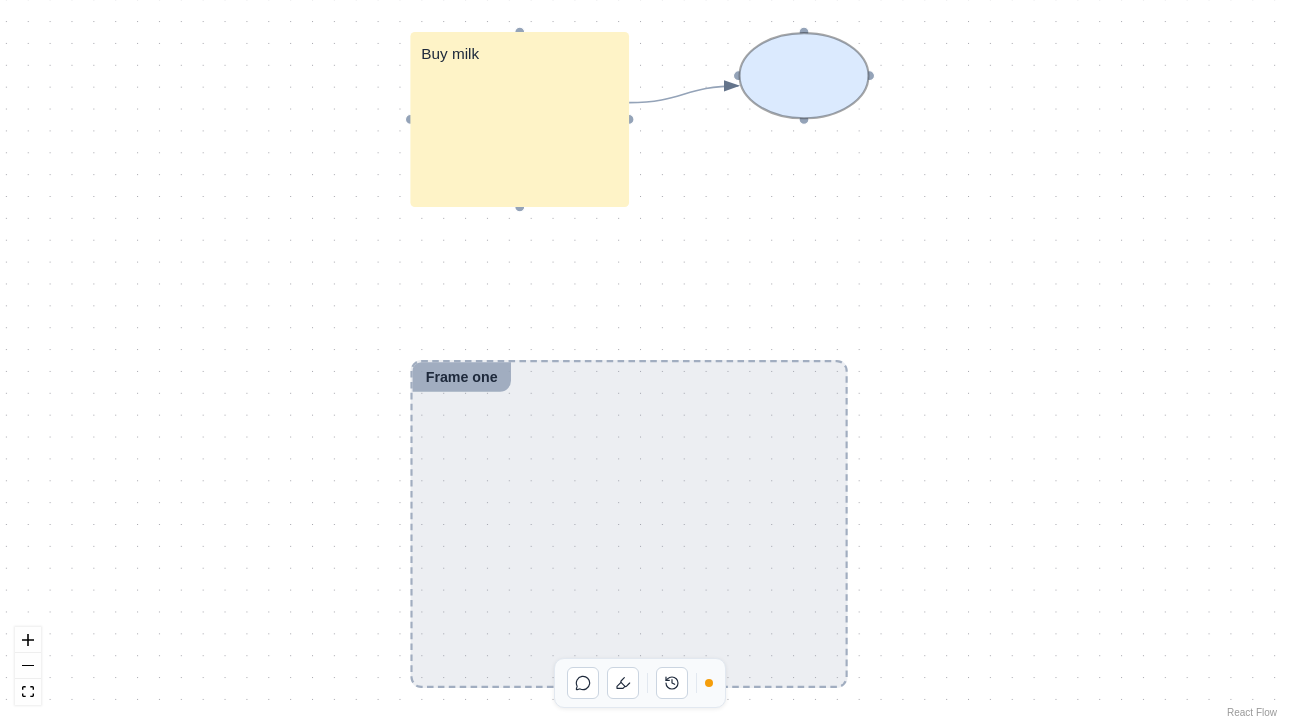
Scenario: BoardCanvas — history panel (time-travel, P6-T36) › previewing on the LIVE board offers no Restore — points to drafts instead
Click the button titled "Version history".
click(672, 683)  # box x1=656 y1=667 x2=688 y2=699
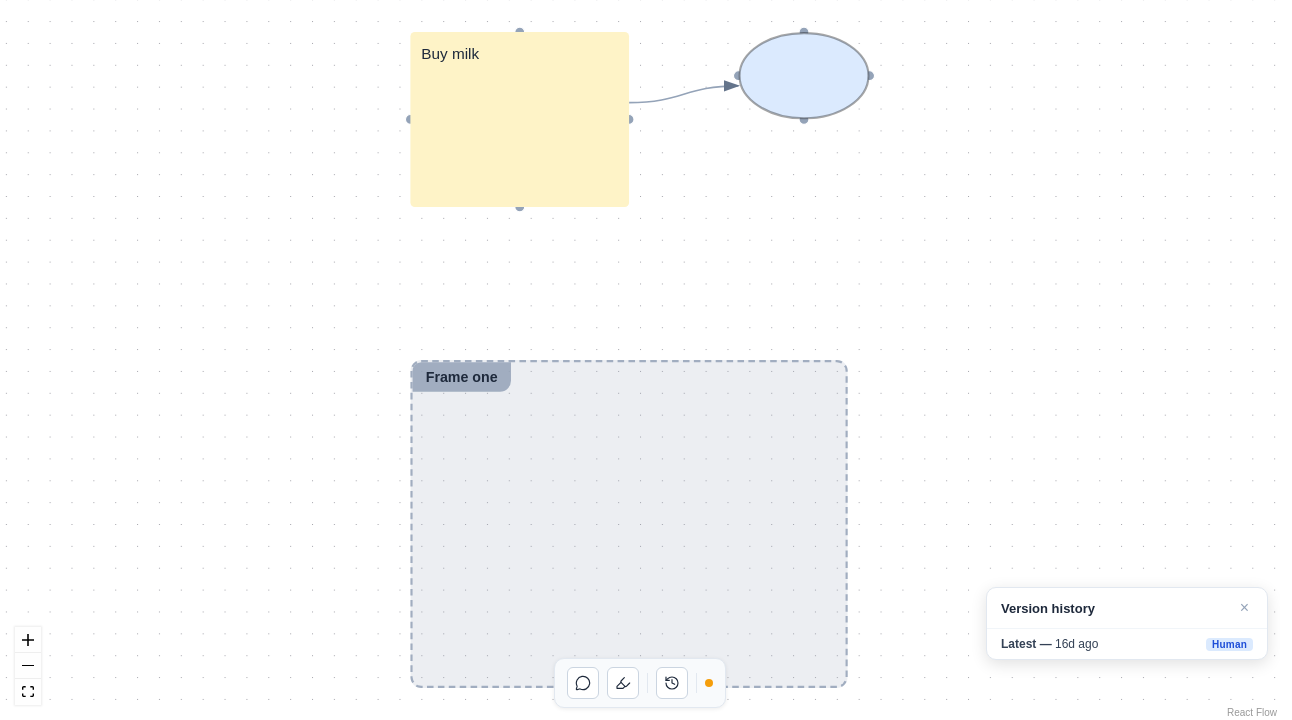
Result: the text "Latest —" is shown
Click the text "Latest —".
click(1028, 644)  # box x1=1001 y1=637 x2=1055 y2=651
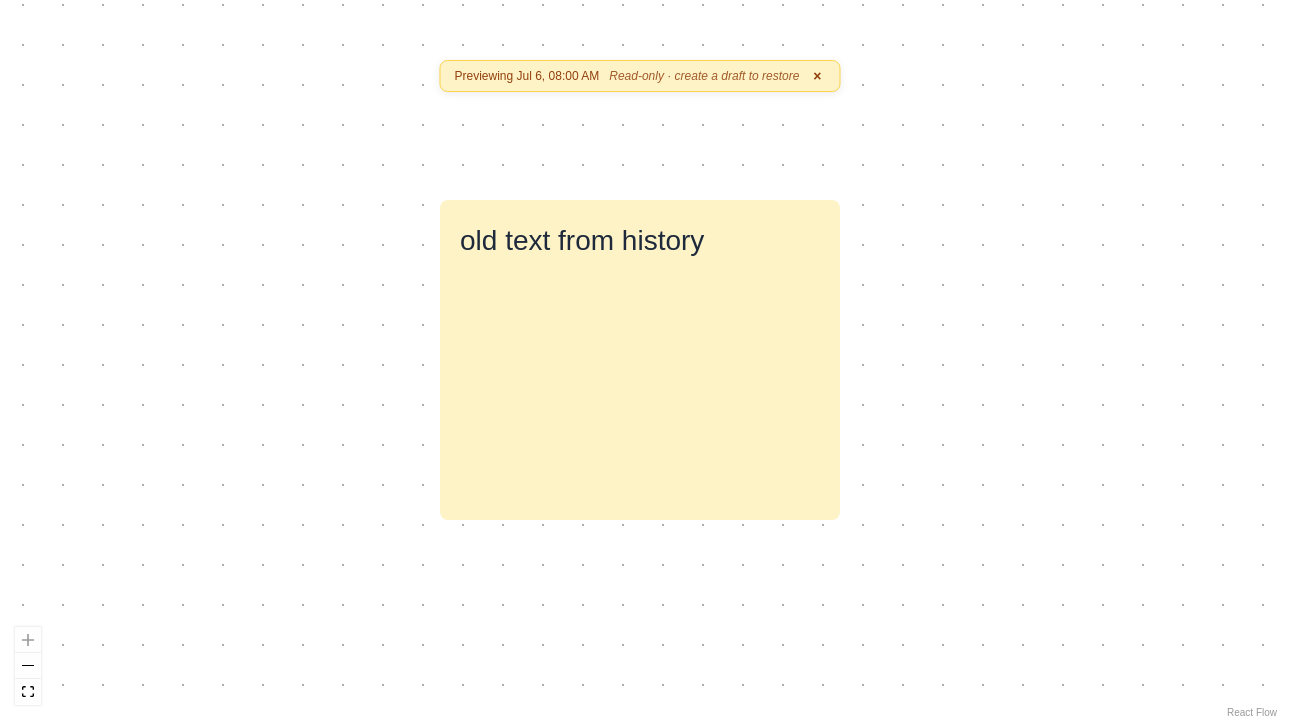
Result: the text "Previewing Jul 6, 08:00 AM" is shown at x1=454 y1=69 x2=599 y2=83
Result: the text "old text from history" is shown at x1=460 y1=224 x2=704 y2=256
Result: the text "Read-only · create a draft to restore" is shown at x1=609 y1=69 x2=799 y2=83
